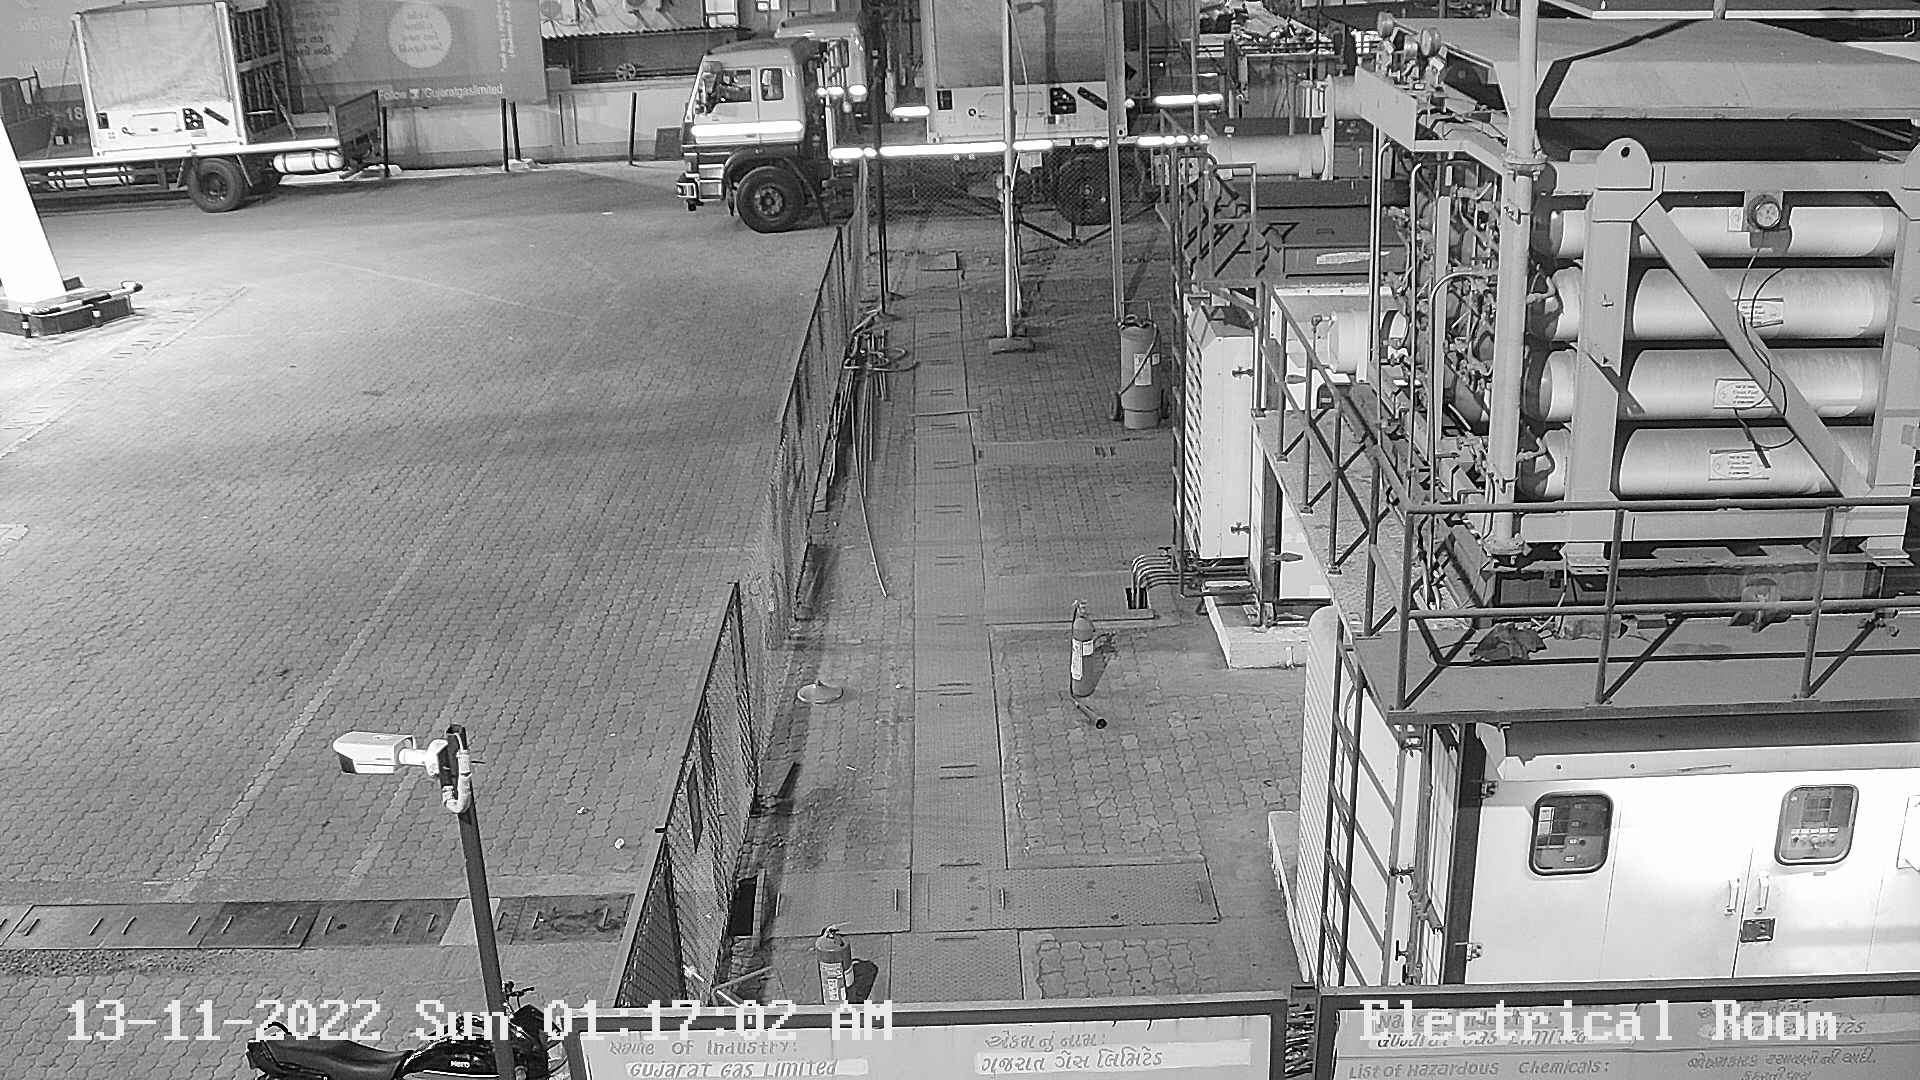Bike: (228, 972, 585, 1077)
HMV: (671, 0, 1216, 240), (0, 5, 392, 220), (769, 0, 1259, 132)
